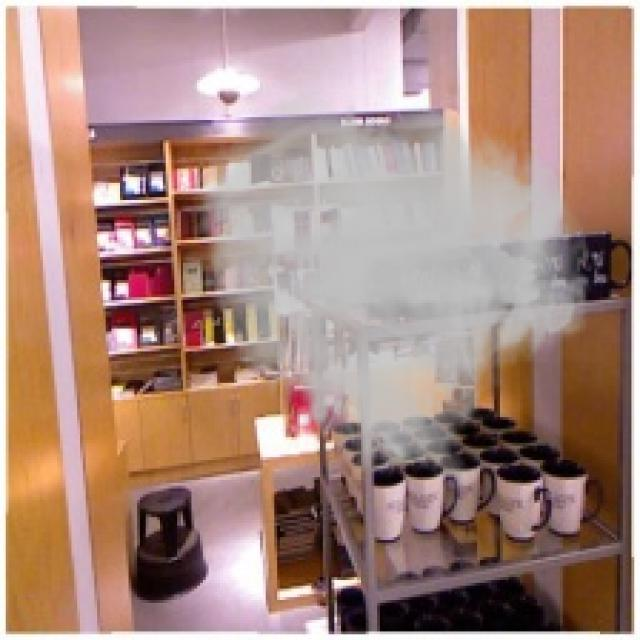smoke: (192, 86, 594, 491)
